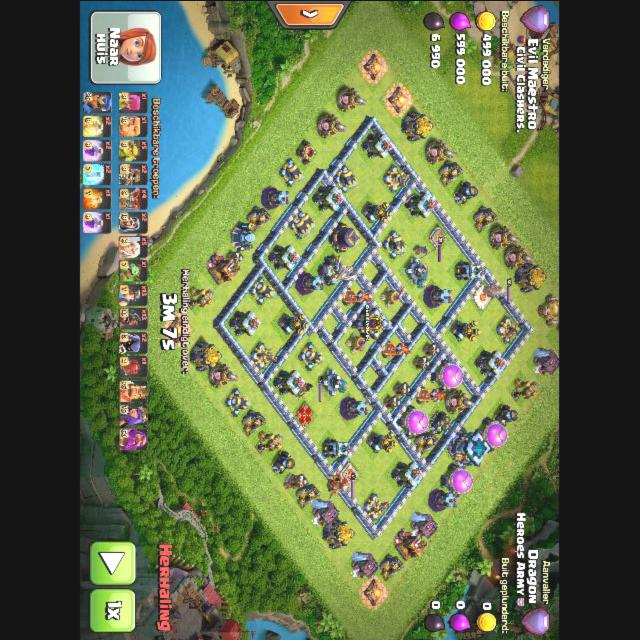AD: (277, 312, 310, 334), (450, 318, 483, 340), (367, 430, 399, 452), (362, 200, 394, 222)
AirSweeper: (381, 286, 407, 307), (346, 332, 368, 353)
BombTower: (323, 438, 353, 456), (456, 261, 485, 279)
Canon: (289, 210, 317, 239), (300, 341, 326, 370), (280, 157, 306, 186), (250, 275, 276, 304), (226, 387, 252, 416), (383, 229, 408, 258), (334, 164, 359, 193)
ClanCastle: (352, 306, 390, 338)
Eagle: (318, 254, 357, 284)
Inferno: (416, 385, 445, 403), (343, 286, 371, 304), (383, 340, 411, 357)
KingPad: (340, 461, 359, 486)
Mortar: (454, 180, 479, 205), (494, 402, 520, 426), (272, 449, 296, 474), (430, 408, 452, 434)
QueenPad: (296, 401, 315, 427)
RcPad: (431, 227, 447, 248)
Scattershot: (404, 257, 429, 288), (322, 368, 350, 395)
TH13: (449, 429, 493, 465)
WardenPad: (475, 284, 493, 308)
WizzTower: (296, 271, 325, 293), (262, 186, 291, 208), (429, 488, 458, 510), (424, 284, 453, 306), (341, 396, 370, 418)
Xbow: (251, 341, 278, 370), (364, 492, 391, 521), (384, 163, 410, 191), (497, 314, 520, 343)
